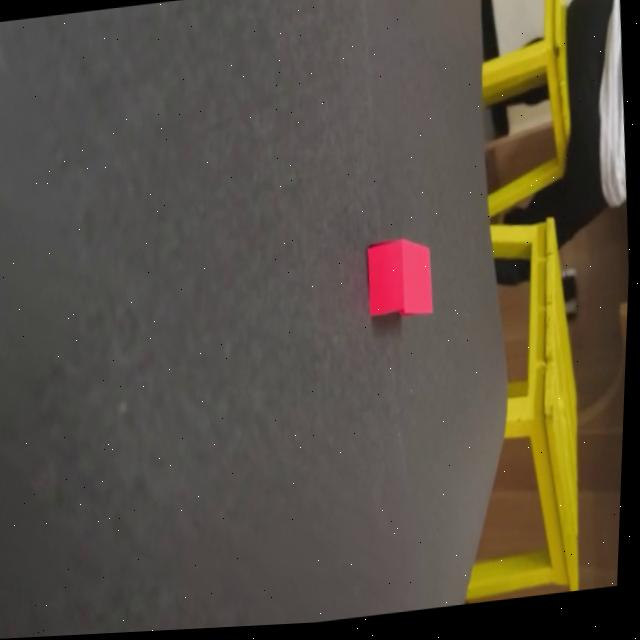red block: (363, 234, 436, 323)
